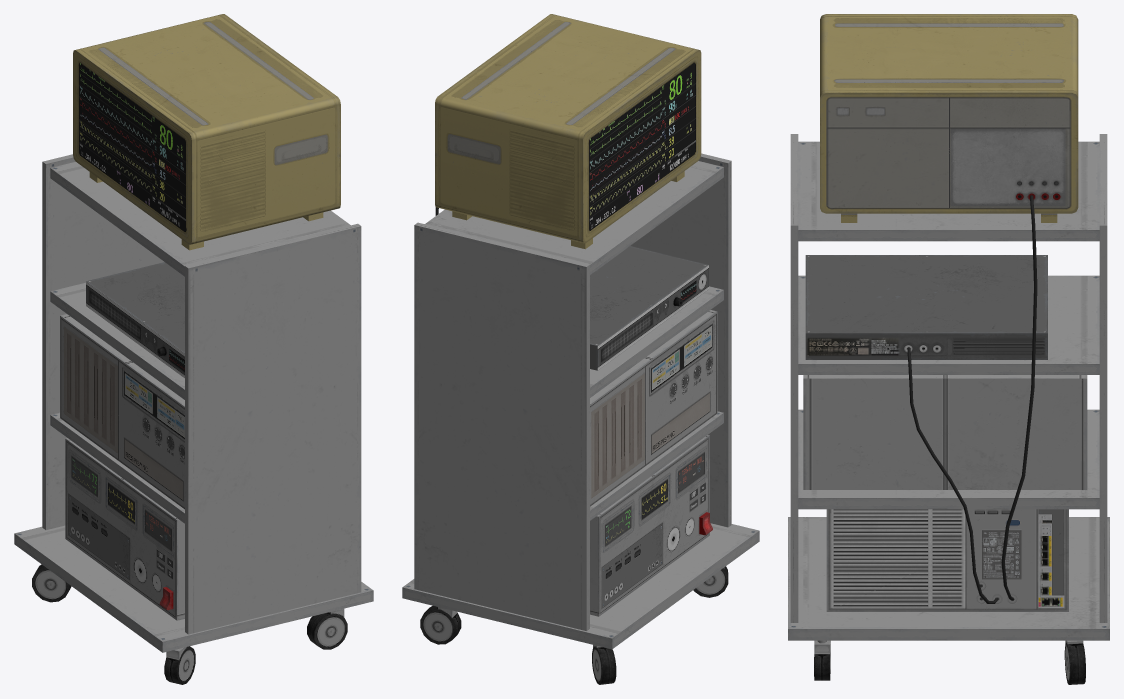
Rendered from HH_Endoscopic_Complex_02.fbx.
3 views of the same model, side by side, from view 1: azimuth 30°, elevation 25°; view 2: azimuth 150°, elevation 25°; view 3: azimuth 270°, elevation 25° (orthographic). The views are drawn at different scales.
Parts seen in each view (by area): view 1: HH_Endoscopic_Complex_02_LOD0; view 2: HH_Endoscopic_Complex_02_LOD0; view 3: HH_Endoscopic_Complex_02_LOD0.
Part boxes in pixels (x1,y1,x2,y2): HH_Endoscopic_Complex_02_LOD0: (14, 14, 373, 684); HH_Endoscopic_Complex_02_LOD0: (402, 14, 759, 684); HH_Endoscopic_Complex_02_LOD0: (788, 14, 1109, 684).
Size of what is drawn, in the model's own units: 61.26 by 151 by 74.21.
